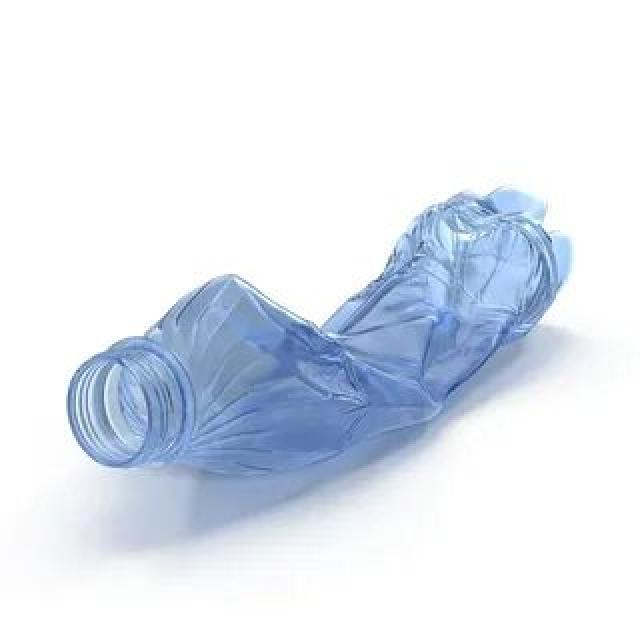blue: (66, 182, 572, 476)
